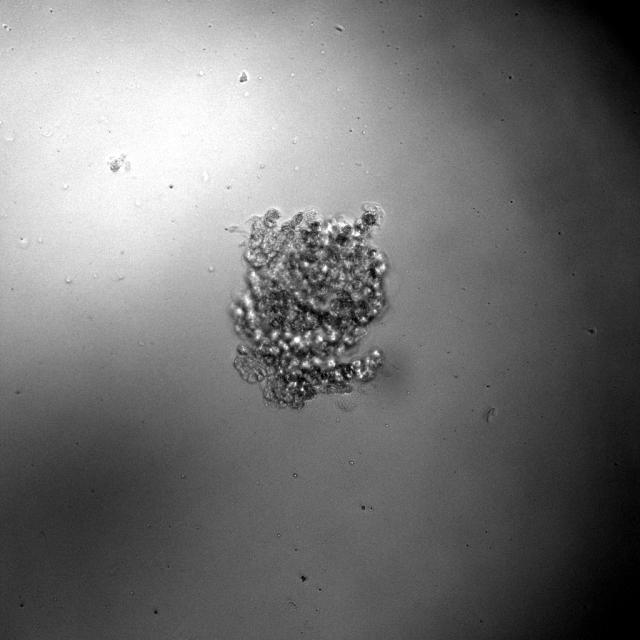organoid: (232, 205, 386, 408)
